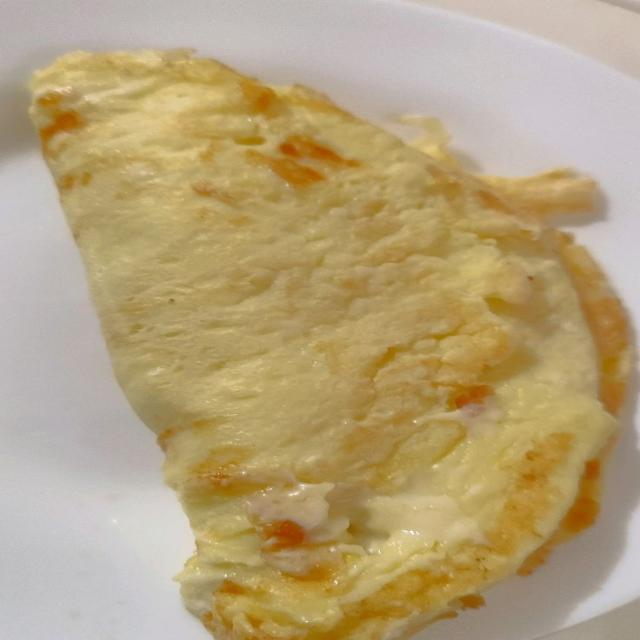omelette: (32, 51, 626, 639)
